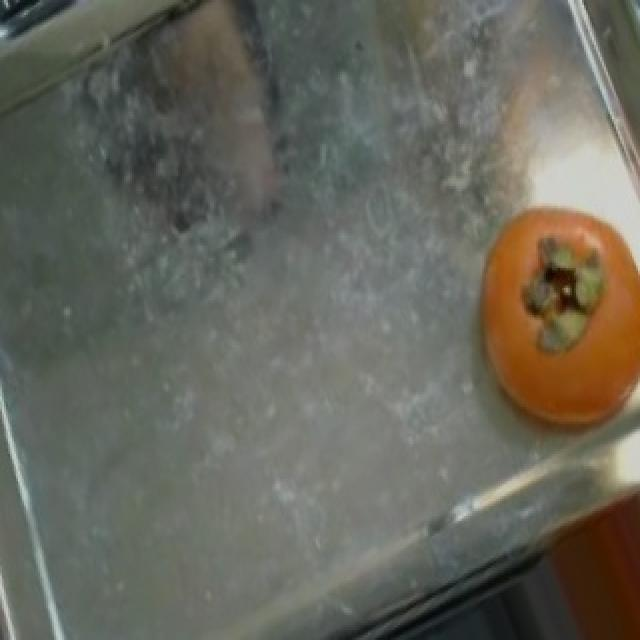Fruit: (450, 178, 638, 466)
